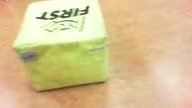cube: (12, 1, 108, 92)
